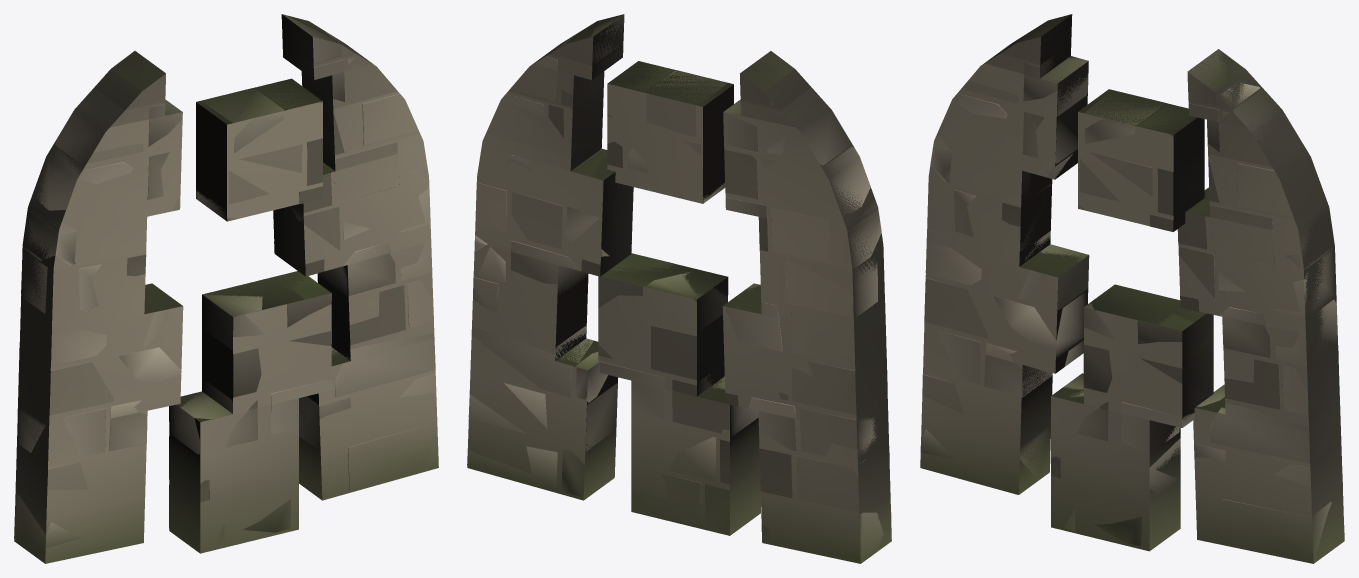
Rendered from arena_block_cracked.glb.
3 views of the same model, side by side, from view 1: azimuth 30°, elevation 25°; view 2: azimuth 150°, elevation 25°; view 3: azimuth 330°, elevation 25° (orthographic).
Visible parts, largest first — view 1: arena_block_cracked_far, arena_block_cracked; view 2: arena_block_cracked_far, arena_block_cracked; view 3: arena_block_cracked_far, arena_block_cracked.
Boxes of the visible parts, x1,y1,x2,y2 form: arena_block_cracked_far: [14, 14, 438, 563]; arena_block_cracked: [14, 14, 437, 562]; arena_block_cracked_far: [467, 14, 891, 563]; arena_block_cracked: [467, 14, 891, 562]; arena_block_cracked_far: [920, 14, 1344, 563]; arena_block_cracked: [920, 14, 1344, 560].
Bounding box in the file's own units: 13.16 × 15.27 × 2.52.
